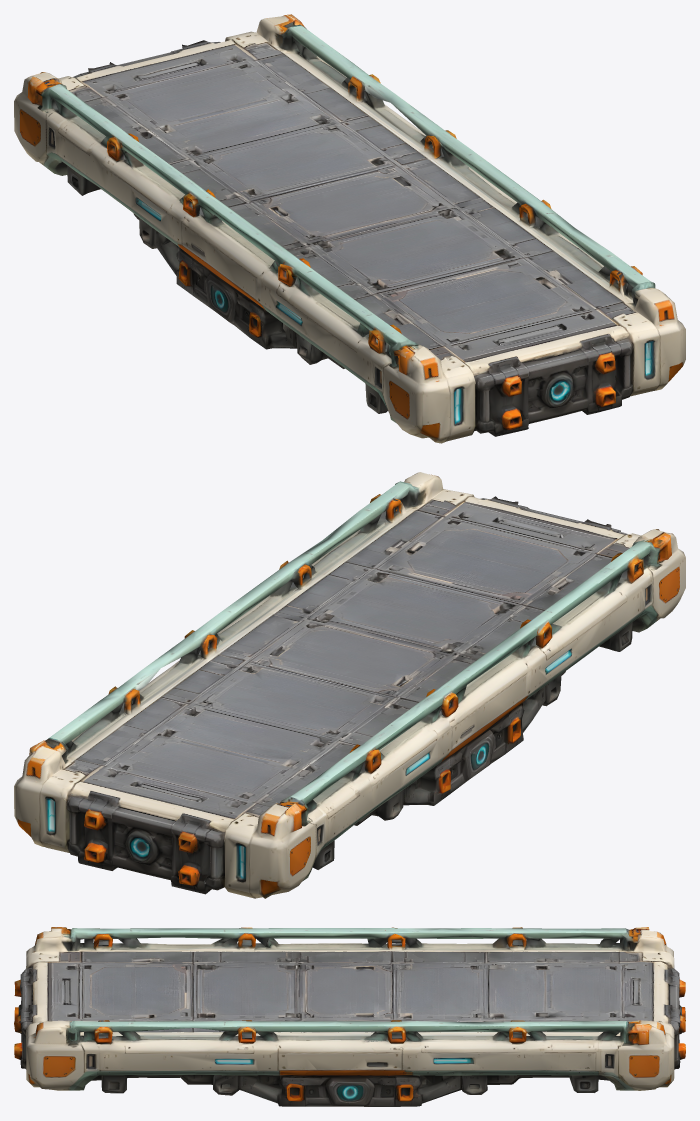
The model's file is futuristic cargo vehicle 3d model.glb.
3 views of the same model, one above another, from view 1: azimuth 30°, elevation 25°; view 2: azimuth 150°, elevation 25°; view 3: azimuth 270°, elevation 25° (orthographic). The views are drawn at different scales.
Parts seen in each view (by area): view 1: tripo_node_f04b8bbd-aa19-4214-bdc9-63d7c37da1a8; view 2: tripo_node_f04b8bbd-aa19-4214-bdc9-63d7c37da1a8; view 3: tripo_node_f04b8bbd-aa19-4214-bdc9-63d7c37da1a8.
Boxes of the visible parts, x1=… form: tripo_node_f04b8bbd-aa19-4214-bdc9-63d7c37da1a8: x1=14, y1=14, x2=685, y2=443; tripo_node_f04b8bbd-aa19-4214-bdc9-63d7c37da1a8: x1=14, y1=472, x2=685, y2=898; tripo_node_f04b8bbd-aa19-4214-bdc9-63d7c37da1a8: x1=14, y1=927, x2=685, y2=1106.
Bounding box in the file's own units: 0.3671 × 0.1369 × 1.
1 material, 1 textured.
